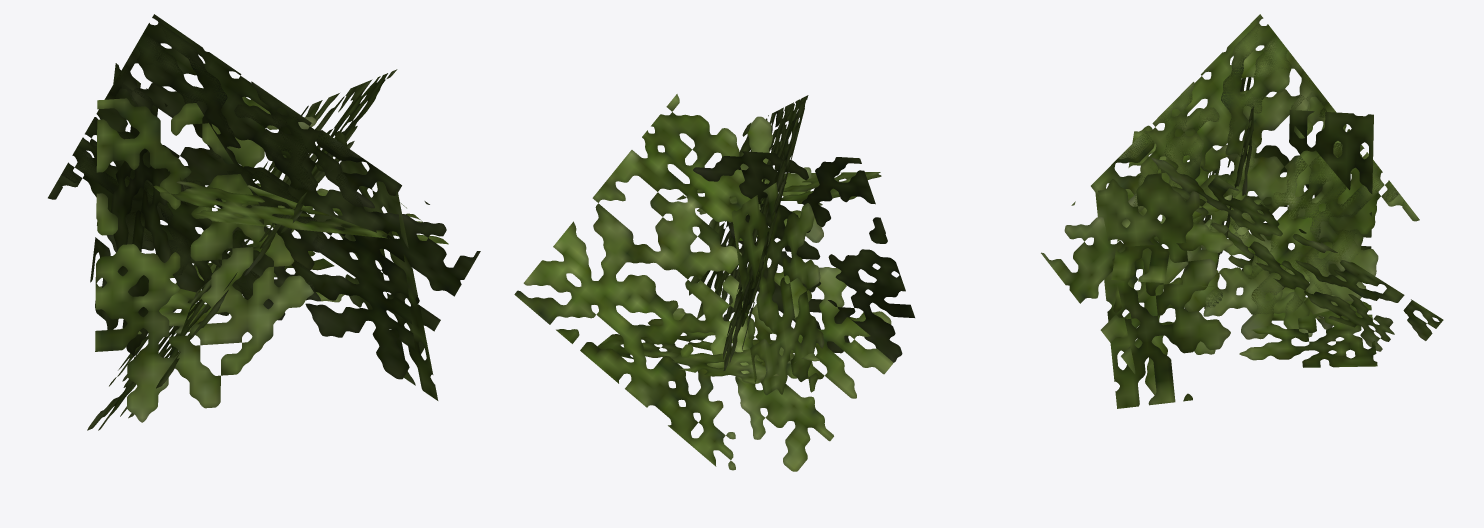
Rendered from chestnut_leaves_vertical_slab.obj.
3 views of the same model, side by side, from view 1: azimuth 30°, elevation 25°; view 2: azimuth 150°, elevation 25°; view 3: azimuth 270°, elevation 25° (orthographic). The views are drawn at different scales.
Parts seen in each view (by area): view 1: cube; view 2: cube; view 3: cube.
Boxes of the visible parts, x1,y1,x2,y2 form: cube: (48,14,480,430); cube: (514,94,914,471); cube: (1041,14,1443,408).
Size of the model in its own units: 2.25 by 2.85 by 2.69.
